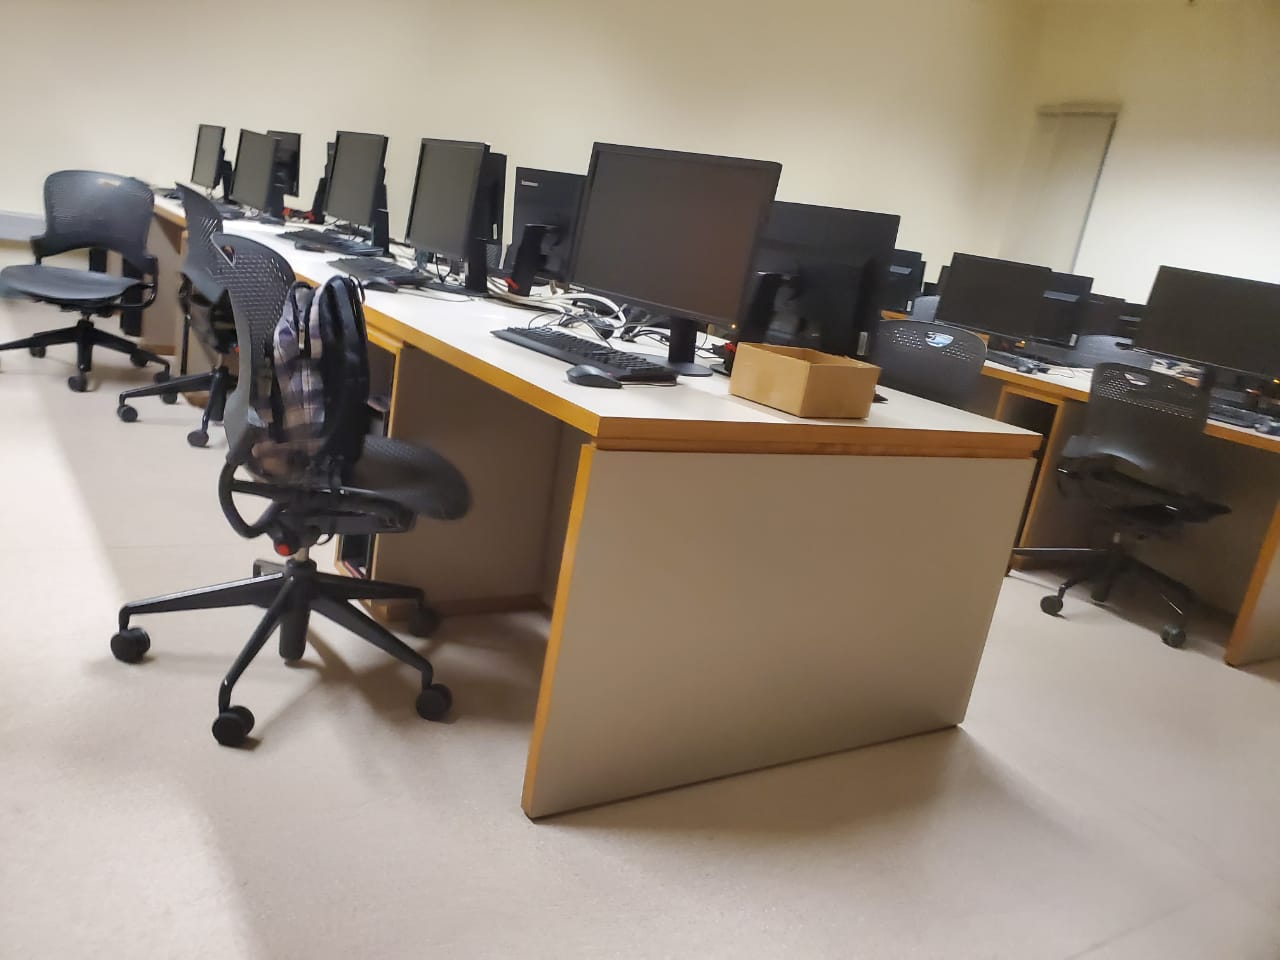CBox: (729, 325, 883, 421)
